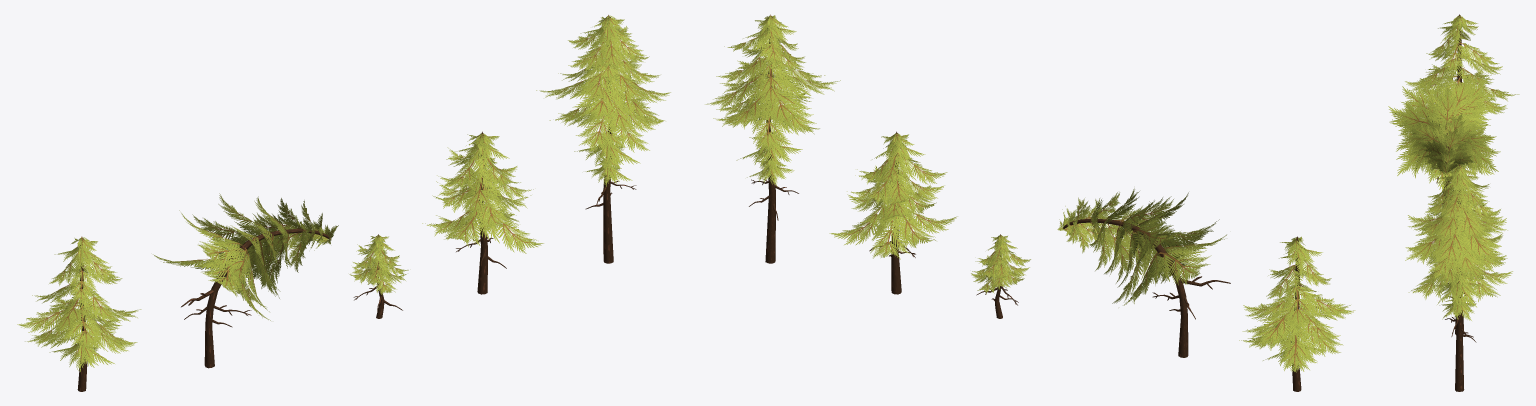
File: PineTrees fix.fbx
The picture shows the model from 3 angles, left to right: view 1: azimuth 30°, elevation 25°; view 2: azimuth 150°, elevation 25°; view 3: azimuth 270°, elevation 25°; orthographic projection. The views are drawn at different scales.
Parts seen in each view (by area): view 1: PineTree_2, PineTree_4, PineTree_5, PineTree_1, PineTree_3; view 2: PineTree_2, PineTree_4, PineTree_1, PineTree_5, PineTree_3; view 3: PineTree_2, PineTree_4, PineTree_5, PineTree_1.
Boxes of the visible parts, left/top/right/bottom form: PineTree_2: left=536, top=15, right=670, bottom=263; PineTree_4: left=153, top=193, right=338, bottom=368; PineTree_5: left=17, top=236, right=141, bottom=391; PineTree_1: left=422, top=131, right=543, bottom=294; PineTree_3: left=349, top=234, right=408, bottom=318; PineTree_2: left=705, top=14, right=840, bottom=263; PineTree_4: left=1057, top=188, right=1230, bottom=357; PineTree_1: left=829, top=131, right=957, bottom=294; PineTree_5: left=1239, top=236, right=1355, bottom=391; PineTree_3: left=971, top=234, right=1030, bottom=318; PineTree_2: left=1405, top=164, right=1507, bottom=391; PineTree_4: left=1388, top=73, right=1500, bottom=207; PineTree_5: left=1405, top=14, right=1519, bottom=127; PineTree_1: left=1407, top=192, right=1512, bottom=334.
Size of the model in its own units: 1869 by 692 by 374.
